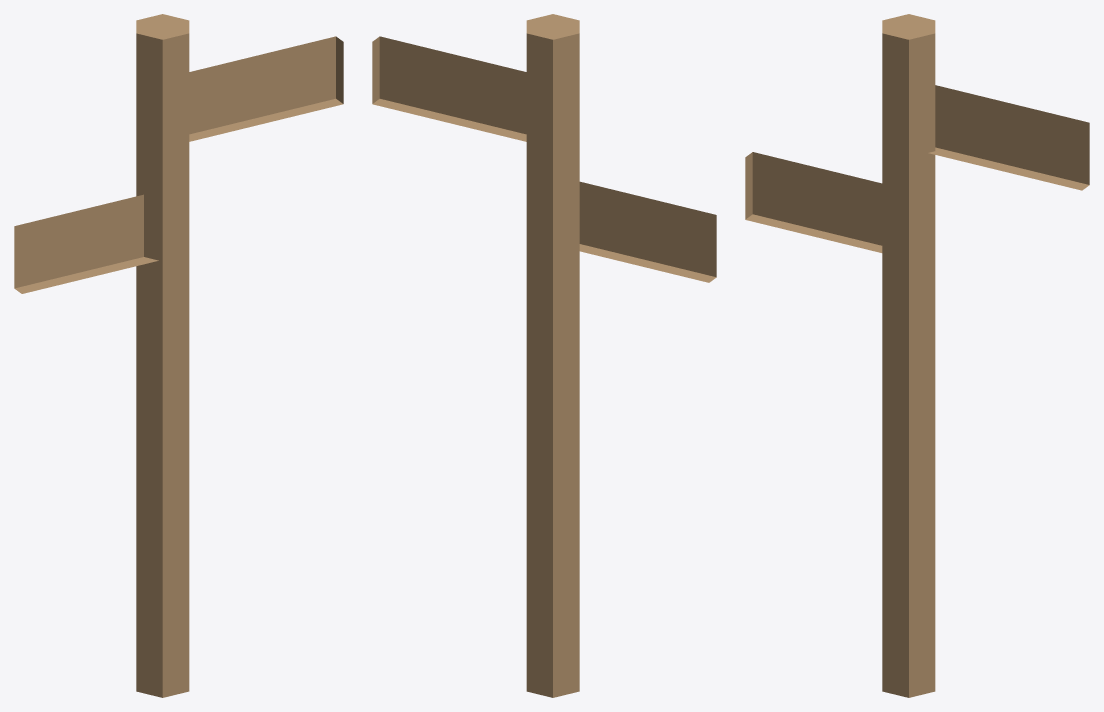
The model's file is SignPost.glb.
The picture shows the model from 3 angles, left to right: view 1: azimuth 30°, elevation 25°; view 2: azimuth 150°, elevation 25°; view 3: azimuth 330°, elevation 25°; orthographic projection.
Visible parts, largest first — view 1: filler_SignPost; view 2: filler_SignPost; view 3: filler_SignPost.
Boxes of the visible parts, x1,y1,x2,y2 form: filler_SignPost: [14, 14, 343, 697]; filler_SignPost: [372, 14, 716, 697]; filler_SignPost: [745, 14, 1089, 697].
Bounding box in the file's own units: 0.995 × 1.9 × 0.1386.
